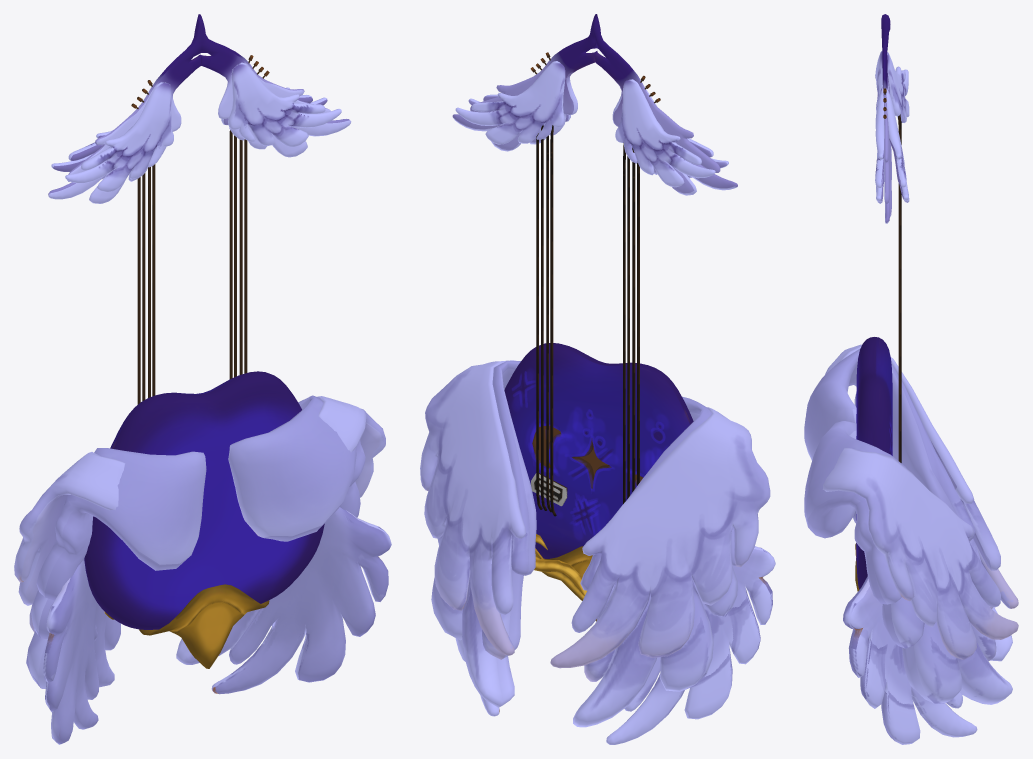
Rendered from lute.glb.
The picture shows the model from 3 angles, left to right: view 1: azimuth 30°, elevation 25°; view 2: azimuth 150°, elevation 25°; view 3: azimuth 270°, elevation 25°; orthographic projection. The views are drawn at different scales.
Parts seen in each view (by area): view 1: Plane.010, Plane.005, Plane.011, Cylinder.003, Plane.014; view 2: Plane.010, Plane.005, Plane.011, Cylinder.003, NurbsPath.002; view 3: Plane.010, Plane.011, Plane.005, Cylinder.003.
Part boxes in pixels (left/top/right/bottom): Plane.010: left=14, top=395, right=391, bottom=744; Plane.005: left=84, top=371, right=324, bottom=629; Plane.011: left=48, top=14, right=351, bottom=203; Cylinder.003: left=137, top=130, right=247, bottom=404; Plane.014: left=139, top=584, right=269, bottom=668; Plane.010: left=420, top=360, right=775, bottom=744; Plane.005: left=504, top=343, right=693, bottom=558; Plane.011: left=452, top=14, right=737, bottom=195; Cylinder.003: left=536, top=125, right=639, bottom=516; NurbsPath.002: left=534, top=534, right=586, bottom=600; Plane.010: left=804, top=344, right=1018, bottom=744; Plane.011: left=875, top=14, right=909, bottom=223; Plane.005: left=856, top=337, right=892, bottom=589; Cylinder.003: left=898, top=114, right=901, bottom=462.
Bounding box in the file's own units: 1.38 × 2.62 × 0.7371.
Materials: 5 (5 with a texture image).
